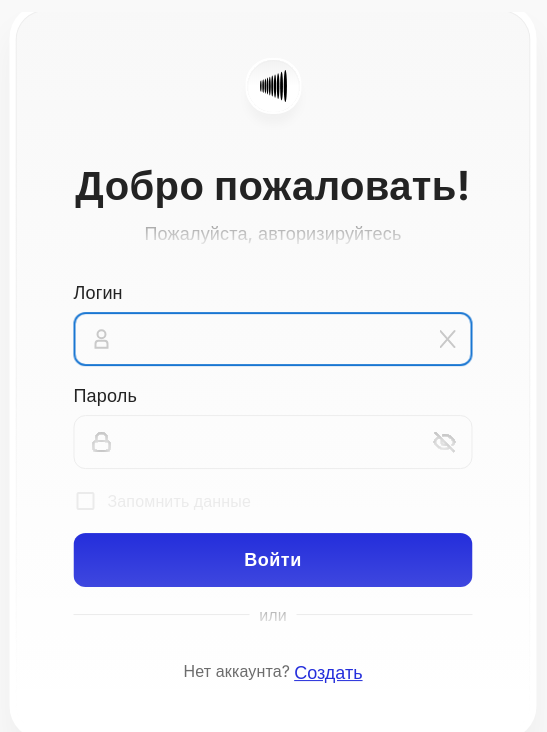
Scenario: LoginPage › shows validation errors when submitting empty form
This screenshot has width=547, height=732.
Click the button with aria-label "login": [273, 560] box top-left (74, 533), bottom-right (472, 587)
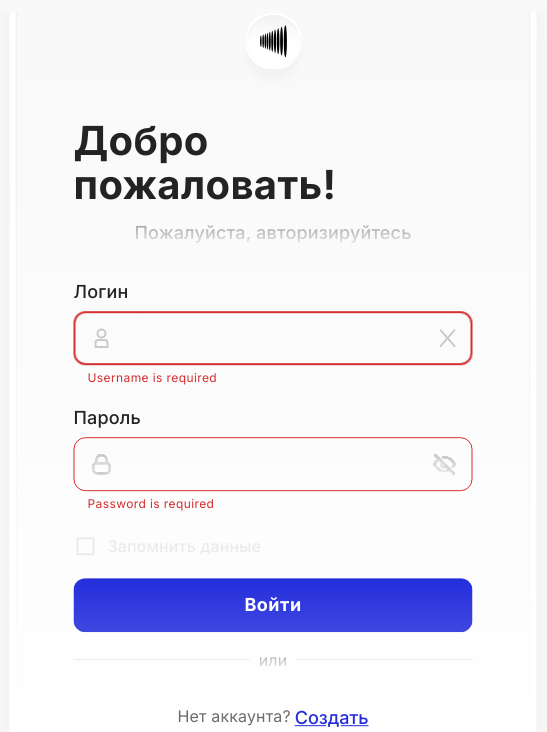
Now the text "Username is required" is shown, box top-left (88, 370), bottom-right (217, 385)
Now the text "Password is required" is shown, box top-left (88, 496), bottom-right (214, 511)
